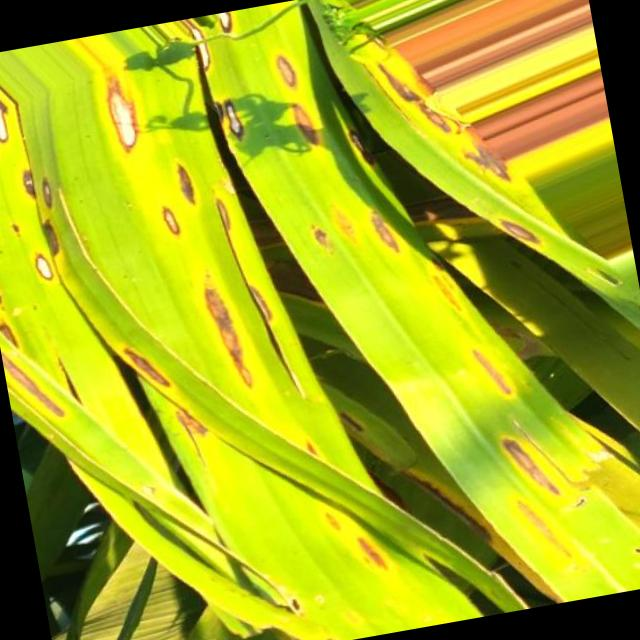Banana_Yellow_Sigatoka: (162, 251, 274, 388), (255, 35, 336, 177), (74, 55, 170, 172)
